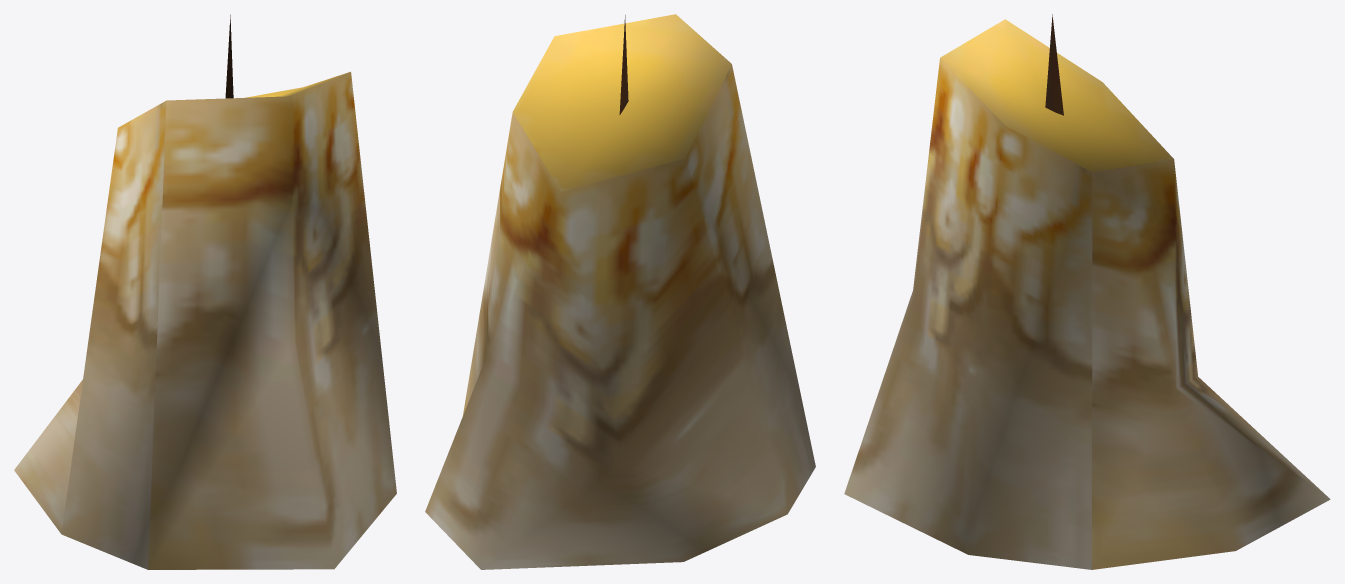
Rendered from candle03.obj.
3 views of the same model, side by side, from view 1: azimuth 30°, elevation 25°; view 2: azimuth 150°, elevation 25°; view 3: azimuth 270°, elevation 25° (orthographic). The views are drawn at different scales.
Visible parts, largest first — view 1: candle03.m2; view 2: candle03.m2; view 3: candle03.m2.
Boxes of the visible parts, box(x1,y1,x2,y2) form: candle03.m2: box(14, 14, 396, 569); candle03.m2: box(425, 14, 815, 569); candle03.m2: box(844, 14, 1330, 569).
Bounding box in the file's own units: 0.3088 × 0.4362 × 0.4006.
1 material, 1 textured.
